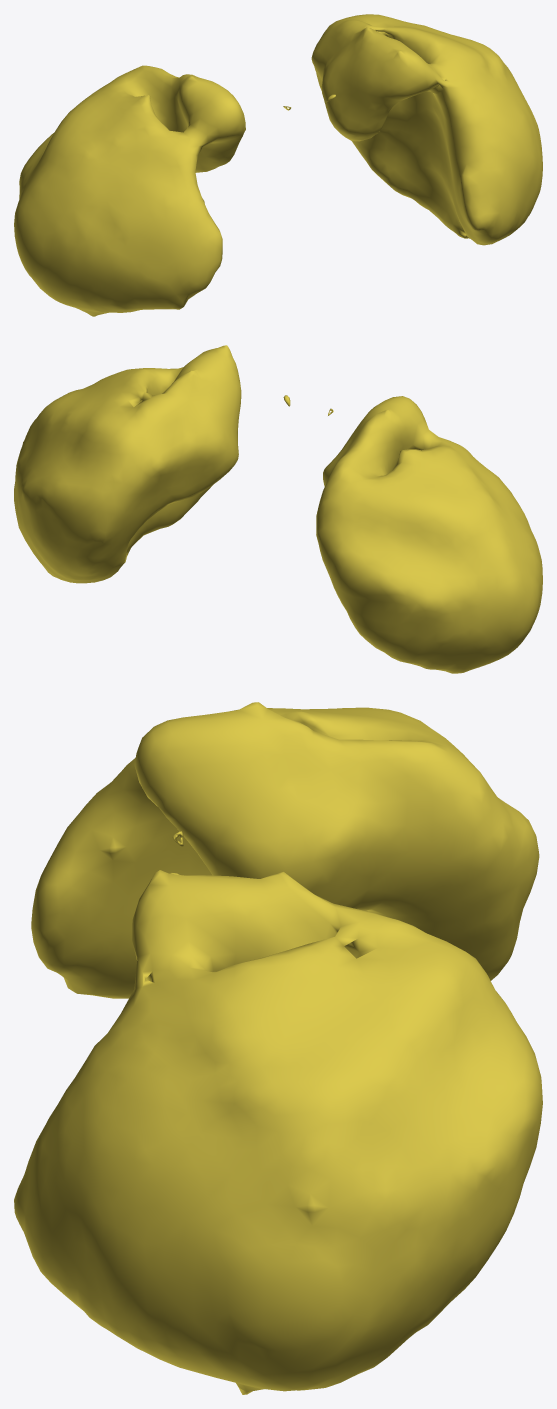
File: cerebellum_deep_nuclei.glb
The picture shows the model from 3 angles, top to bottom: view 1: azimuth 30°, elevation 25°; view 2: azimuth 150°, elevation 25°; view 3: azimuth 270°, elevation 25°; orthographic projection. The views are drawn at different scales.
Visible parts, largest first — view 1: Núcleos Cerebelosos Profundos; view 2: Núcleos Cerebelosos Profundos; view 3: Núcleos Cerebelosos Profundos.
Boxes of the visible parts, x1,y1,x2,y2 form: Núcleos Cerebelosos Profundos: (14, 14, 542, 316); Núcleos Cerebelosos Profundos: (14, 345, 542, 673); Núcleos Cerebelosos Profundos: (14, 702, 542, 1394).
Bounding box in the file's own units: 1.53 × 0.6761 × 0.7484.
